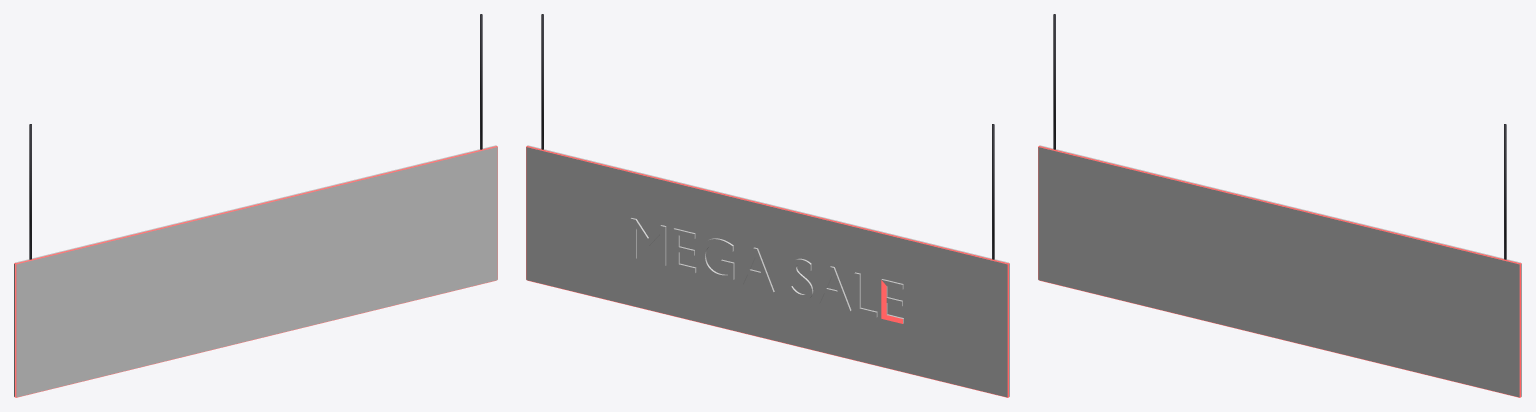
The model's file is sale_banner.glb.
The picture shows the model from 3 angles, left to right: view 1: azimuth 30°, elevation 25°; view 2: azimuth 150°, elevation 25°; view 3: azimuth 330°, elevation 25°; orthographic projection.
Parts seen in each view (by area): view 1: sale_banner; view 2: sale_banner; view 3: sale_banner.
Part boxes in pixels (x1,y1,x2,y2): sale_banner: (14,14,497,397); sale_banner: (526,14,1009,397); sale_banner: (1038,14,1521,397).
Size of the model in its own units: 3 by 1.6 by 0.036.
